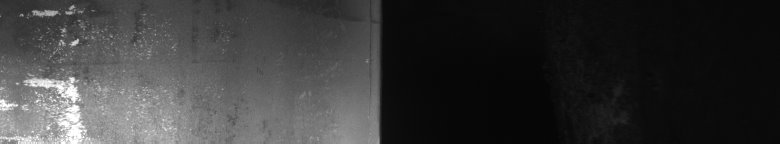kb: (4, 4, 144, 110)
